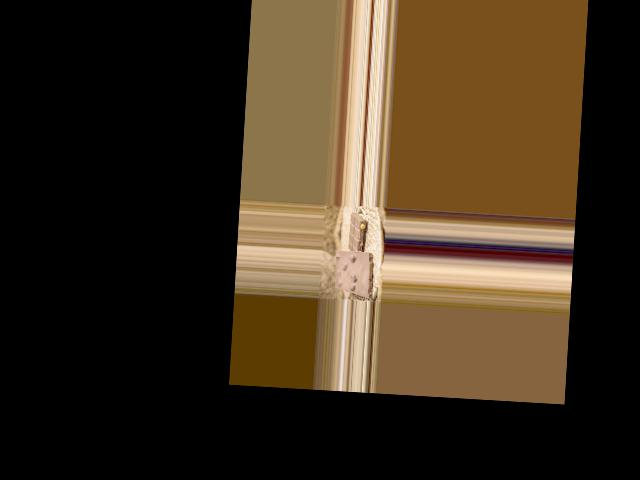chocolate: (332, 247, 374, 298)
